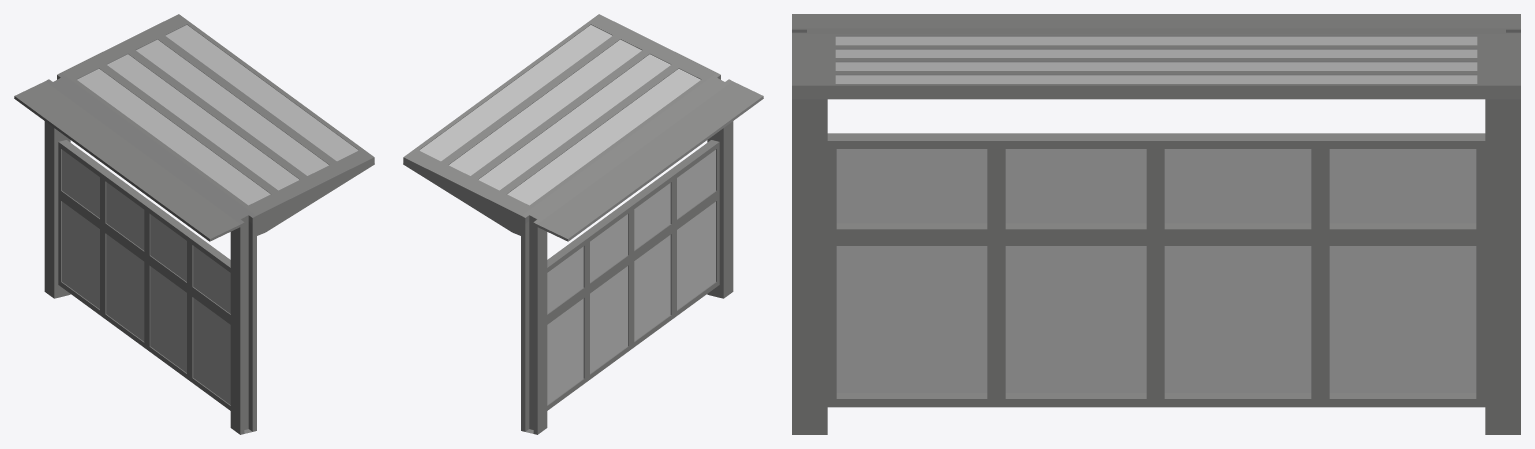
File: BusStop.fbx
3 renders of one model, left to right at view 1: azimuth 30°, elevation 25°; view 2: azimuth 150°, elevation 25°; view 3: azimuth 270°, elevation 25°, orthographic. The views are drawn at different scales.
Parts seen in each view (by area): view 1: BusStop; view 2: BusStop; view 3: BusStop.
Part boxes in pixels (x1=…): BusStop: x1=14, y1=14, x2=374, y2=434; BusStop: x1=403, y1=14, x2=763, y2=434; BusStop: x1=792, y1=14, x2=1520, y2=434.
Bounding box in the file's own units: 2 × 4.09 × 2.83.
Materials: 1 (1 with a texture image).
